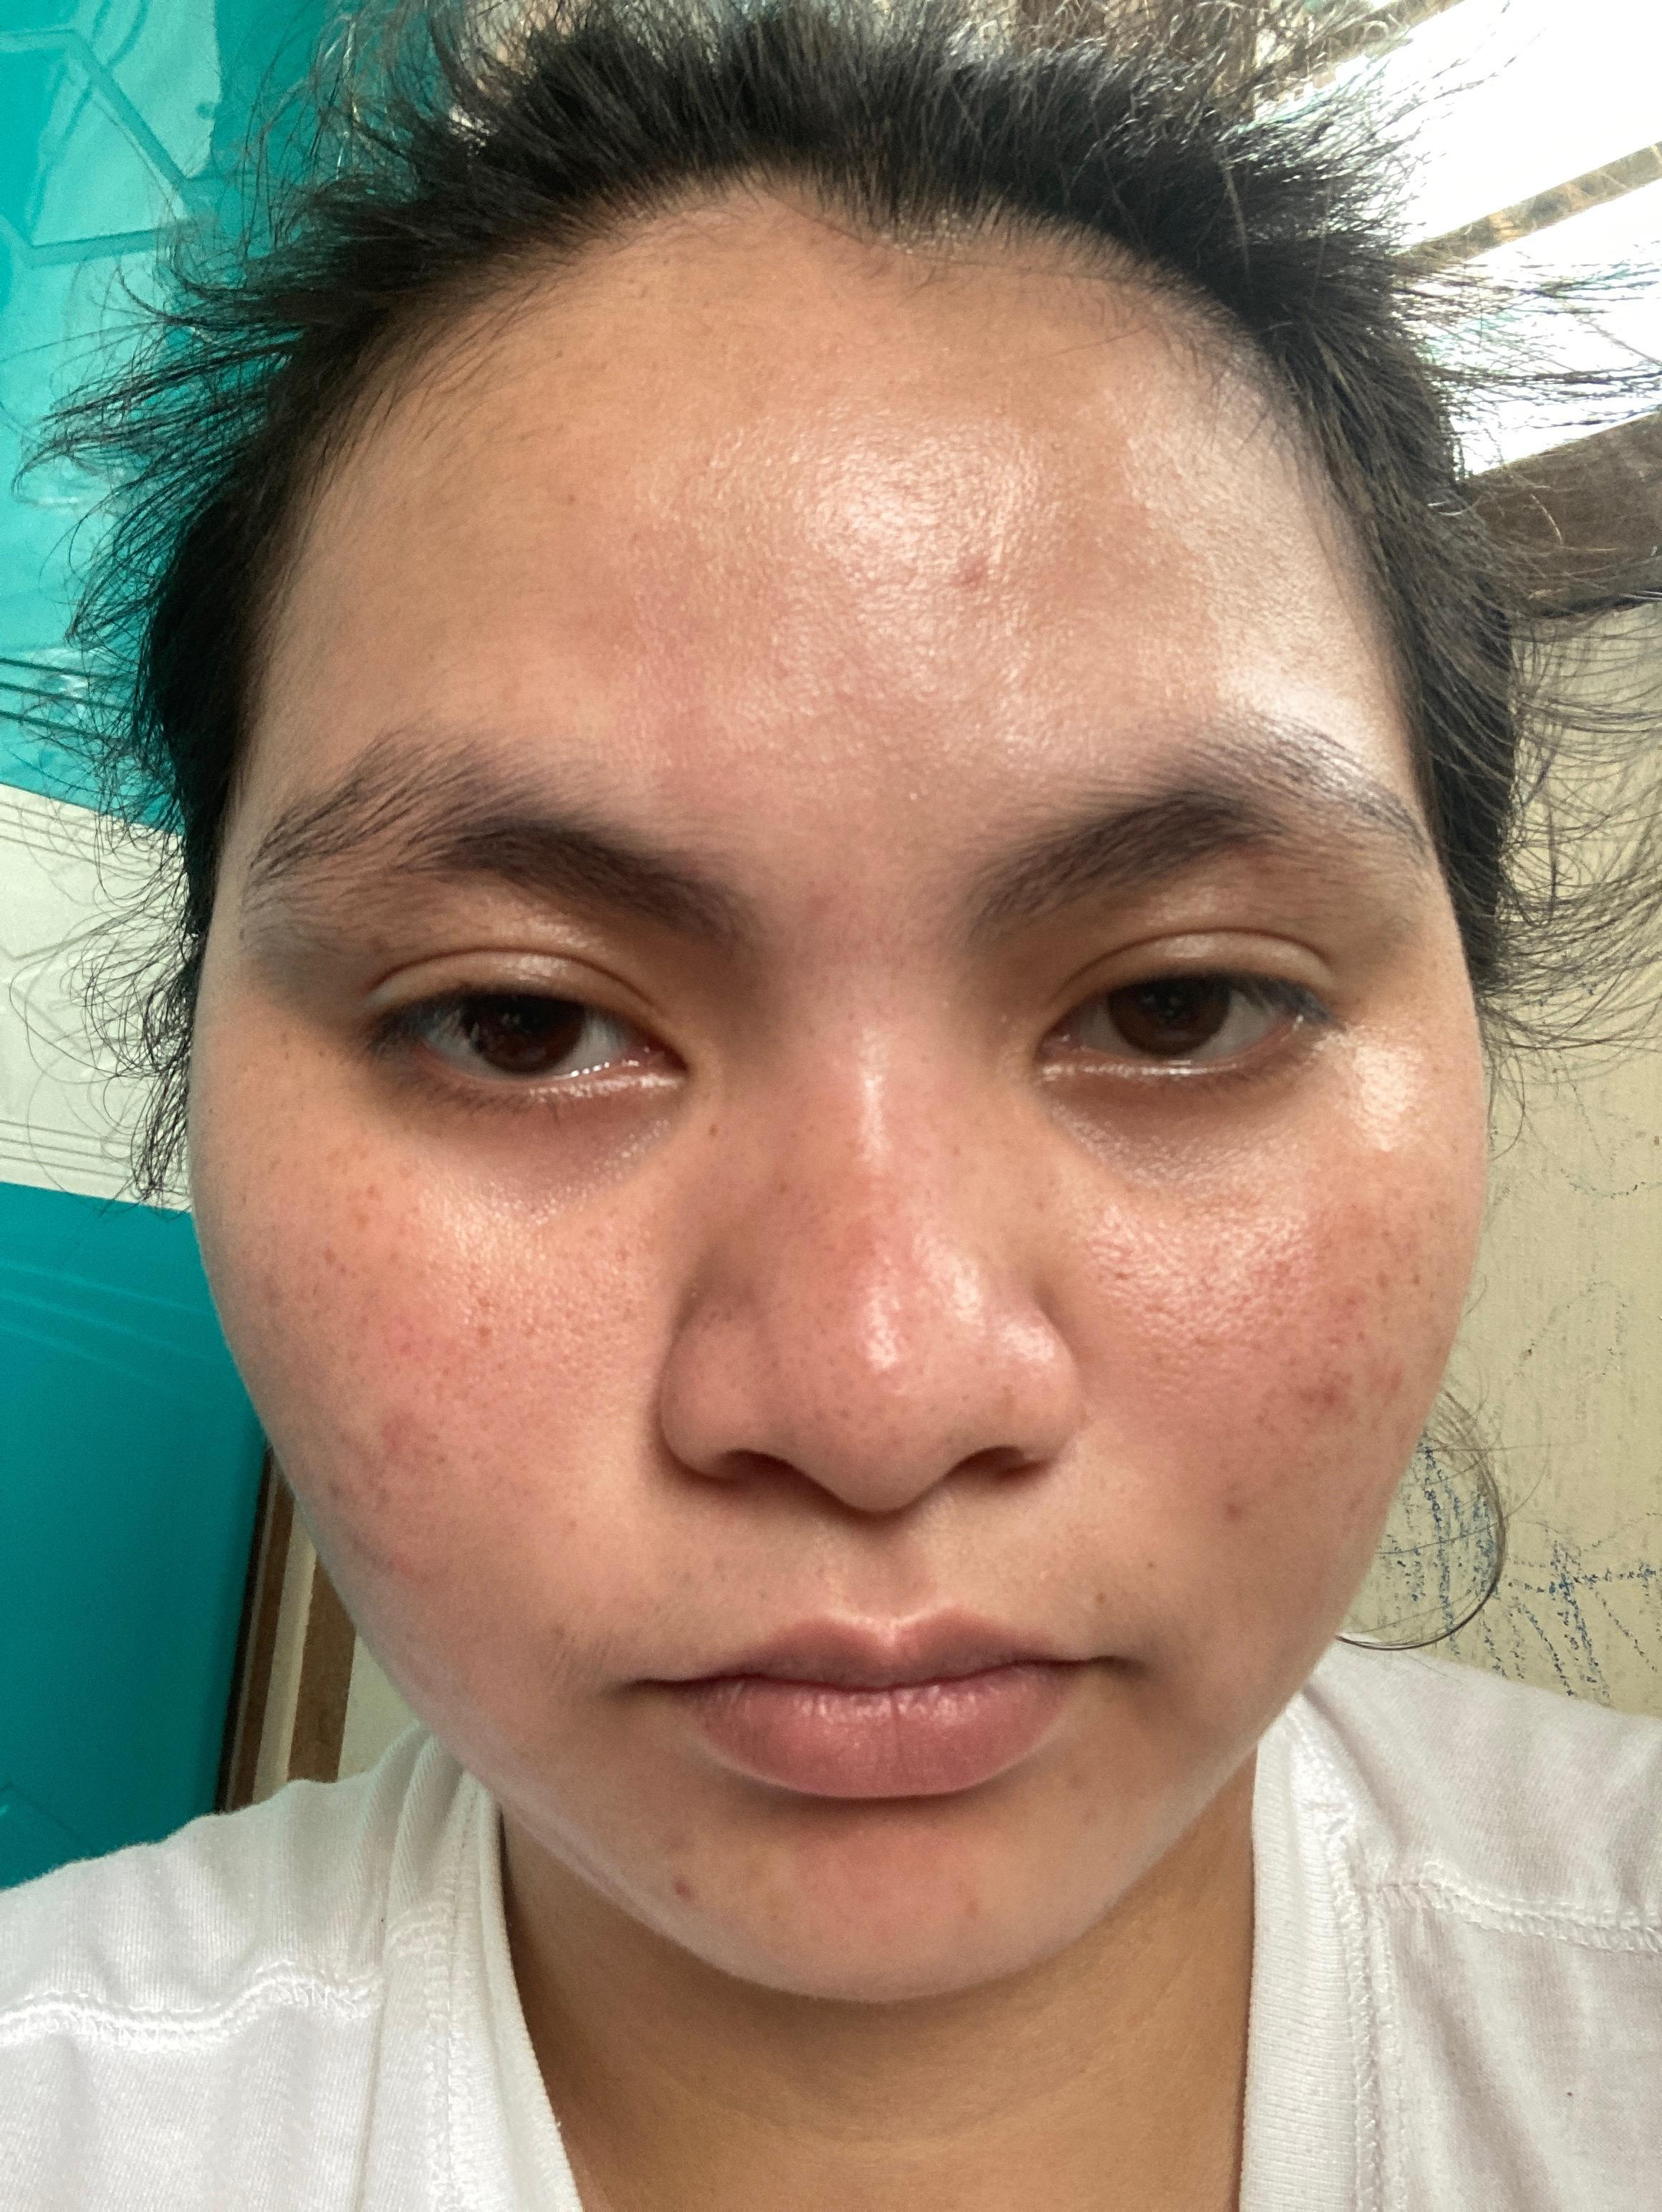Acne: (244, 1161, 531, 1360), (1236, 1325, 1367, 1542), (1030, 1171, 1150, 1283), (306, 1409, 484, 1477), (353, 1528, 452, 1610), (1245, 1233, 1318, 1311), (1381, 1226, 1444, 1311), (1337, 1187, 1374, 1329), (393, 1634, 482, 1690), (546, 1480, 592, 1550), (993, 1360, 1037, 1423), (649, 1805, 705, 1852), (655, 1882, 719, 1920), (958, 536, 990, 609), (948, 1889, 1004, 1926), (1056, 1796, 1117, 1826), (1067, 1769, 1102, 1798)
Englarged-Pores: (899, 1182, 985, 1447), (566, 1248, 663, 1451), (768, 1292, 889, 1433), (1142, 1309, 1219, 1465), (765, 1170, 869, 1274)
Eyebags: (321, 1049, 731, 1194), (992, 1037, 1360, 1163)
